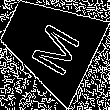M_NW: (19, 11, 79, 75)
